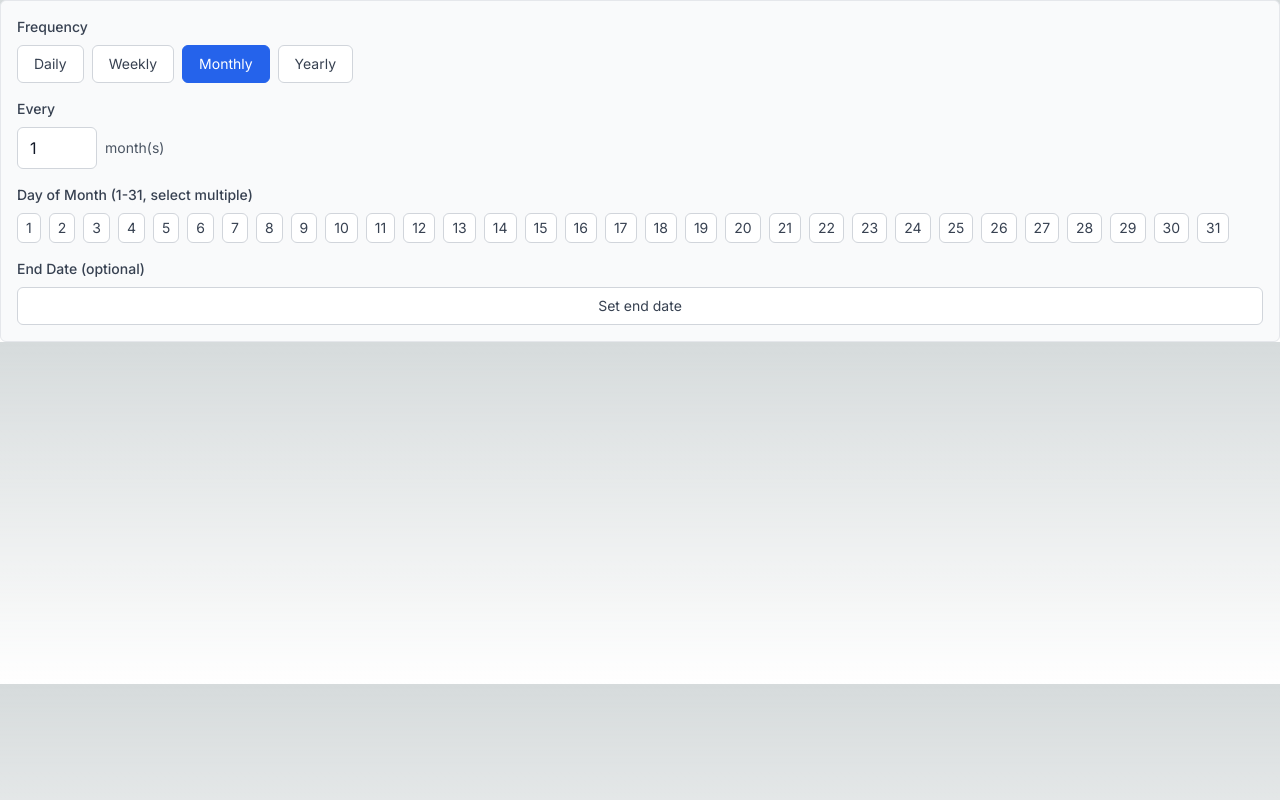
Scenario: RecurrenceControl Component › should show month buttons for yearly frequency
Click the button "yearly": (315, 64) [278,45,353,83]
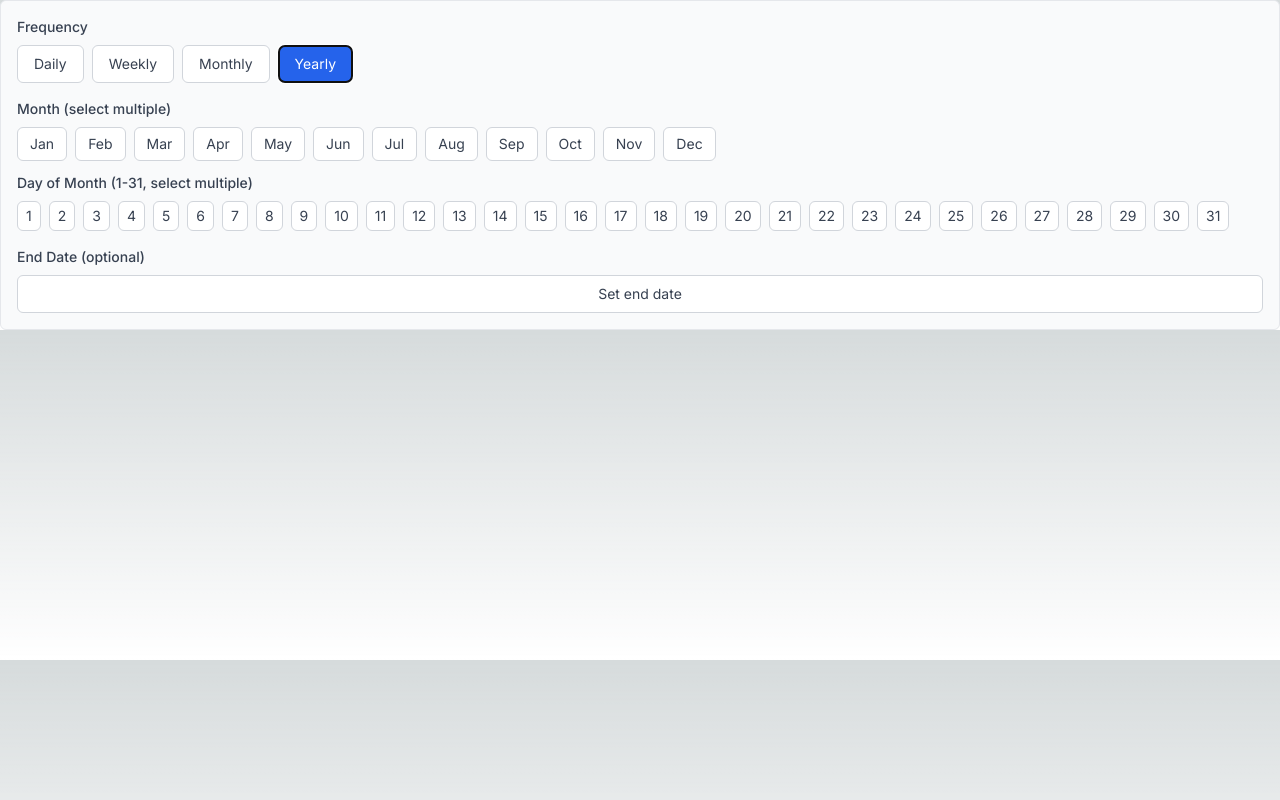
Check: the button "Jan" is shown, box [17,127,67,161]
Check: the button "Jun" is shown, box [313,127,364,161]
Check: the button "Dec" is shown, box [663,127,716,161]
